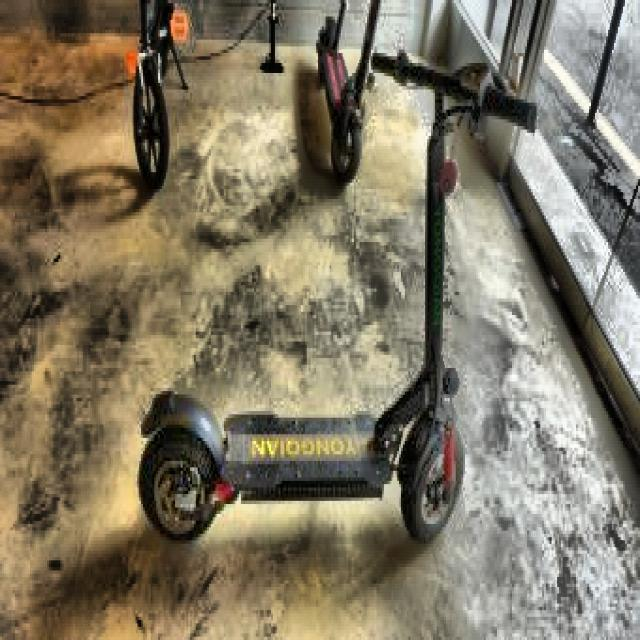bike: (118, 0, 195, 190)
